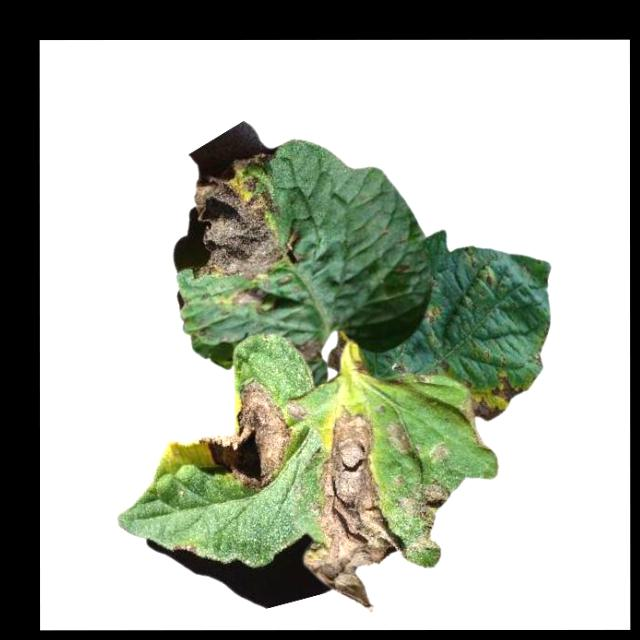Early_blight: (299, 407, 405, 609), (194, 148, 286, 279), (201, 381, 290, 491), (395, 478, 448, 552), (471, 375, 525, 419), (386, 419, 412, 454), (295, 336, 322, 362), (227, 287, 262, 307), (326, 334, 345, 370), (285, 401, 308, 418), (430, 441, 447, 458)
